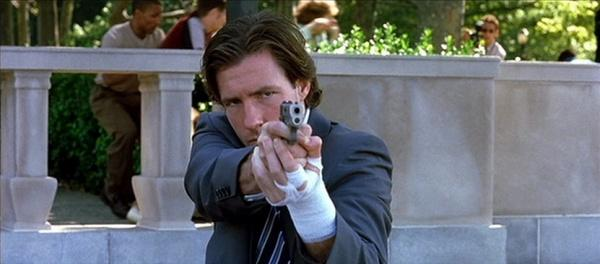Gun: (280, 100, 306, 145)
